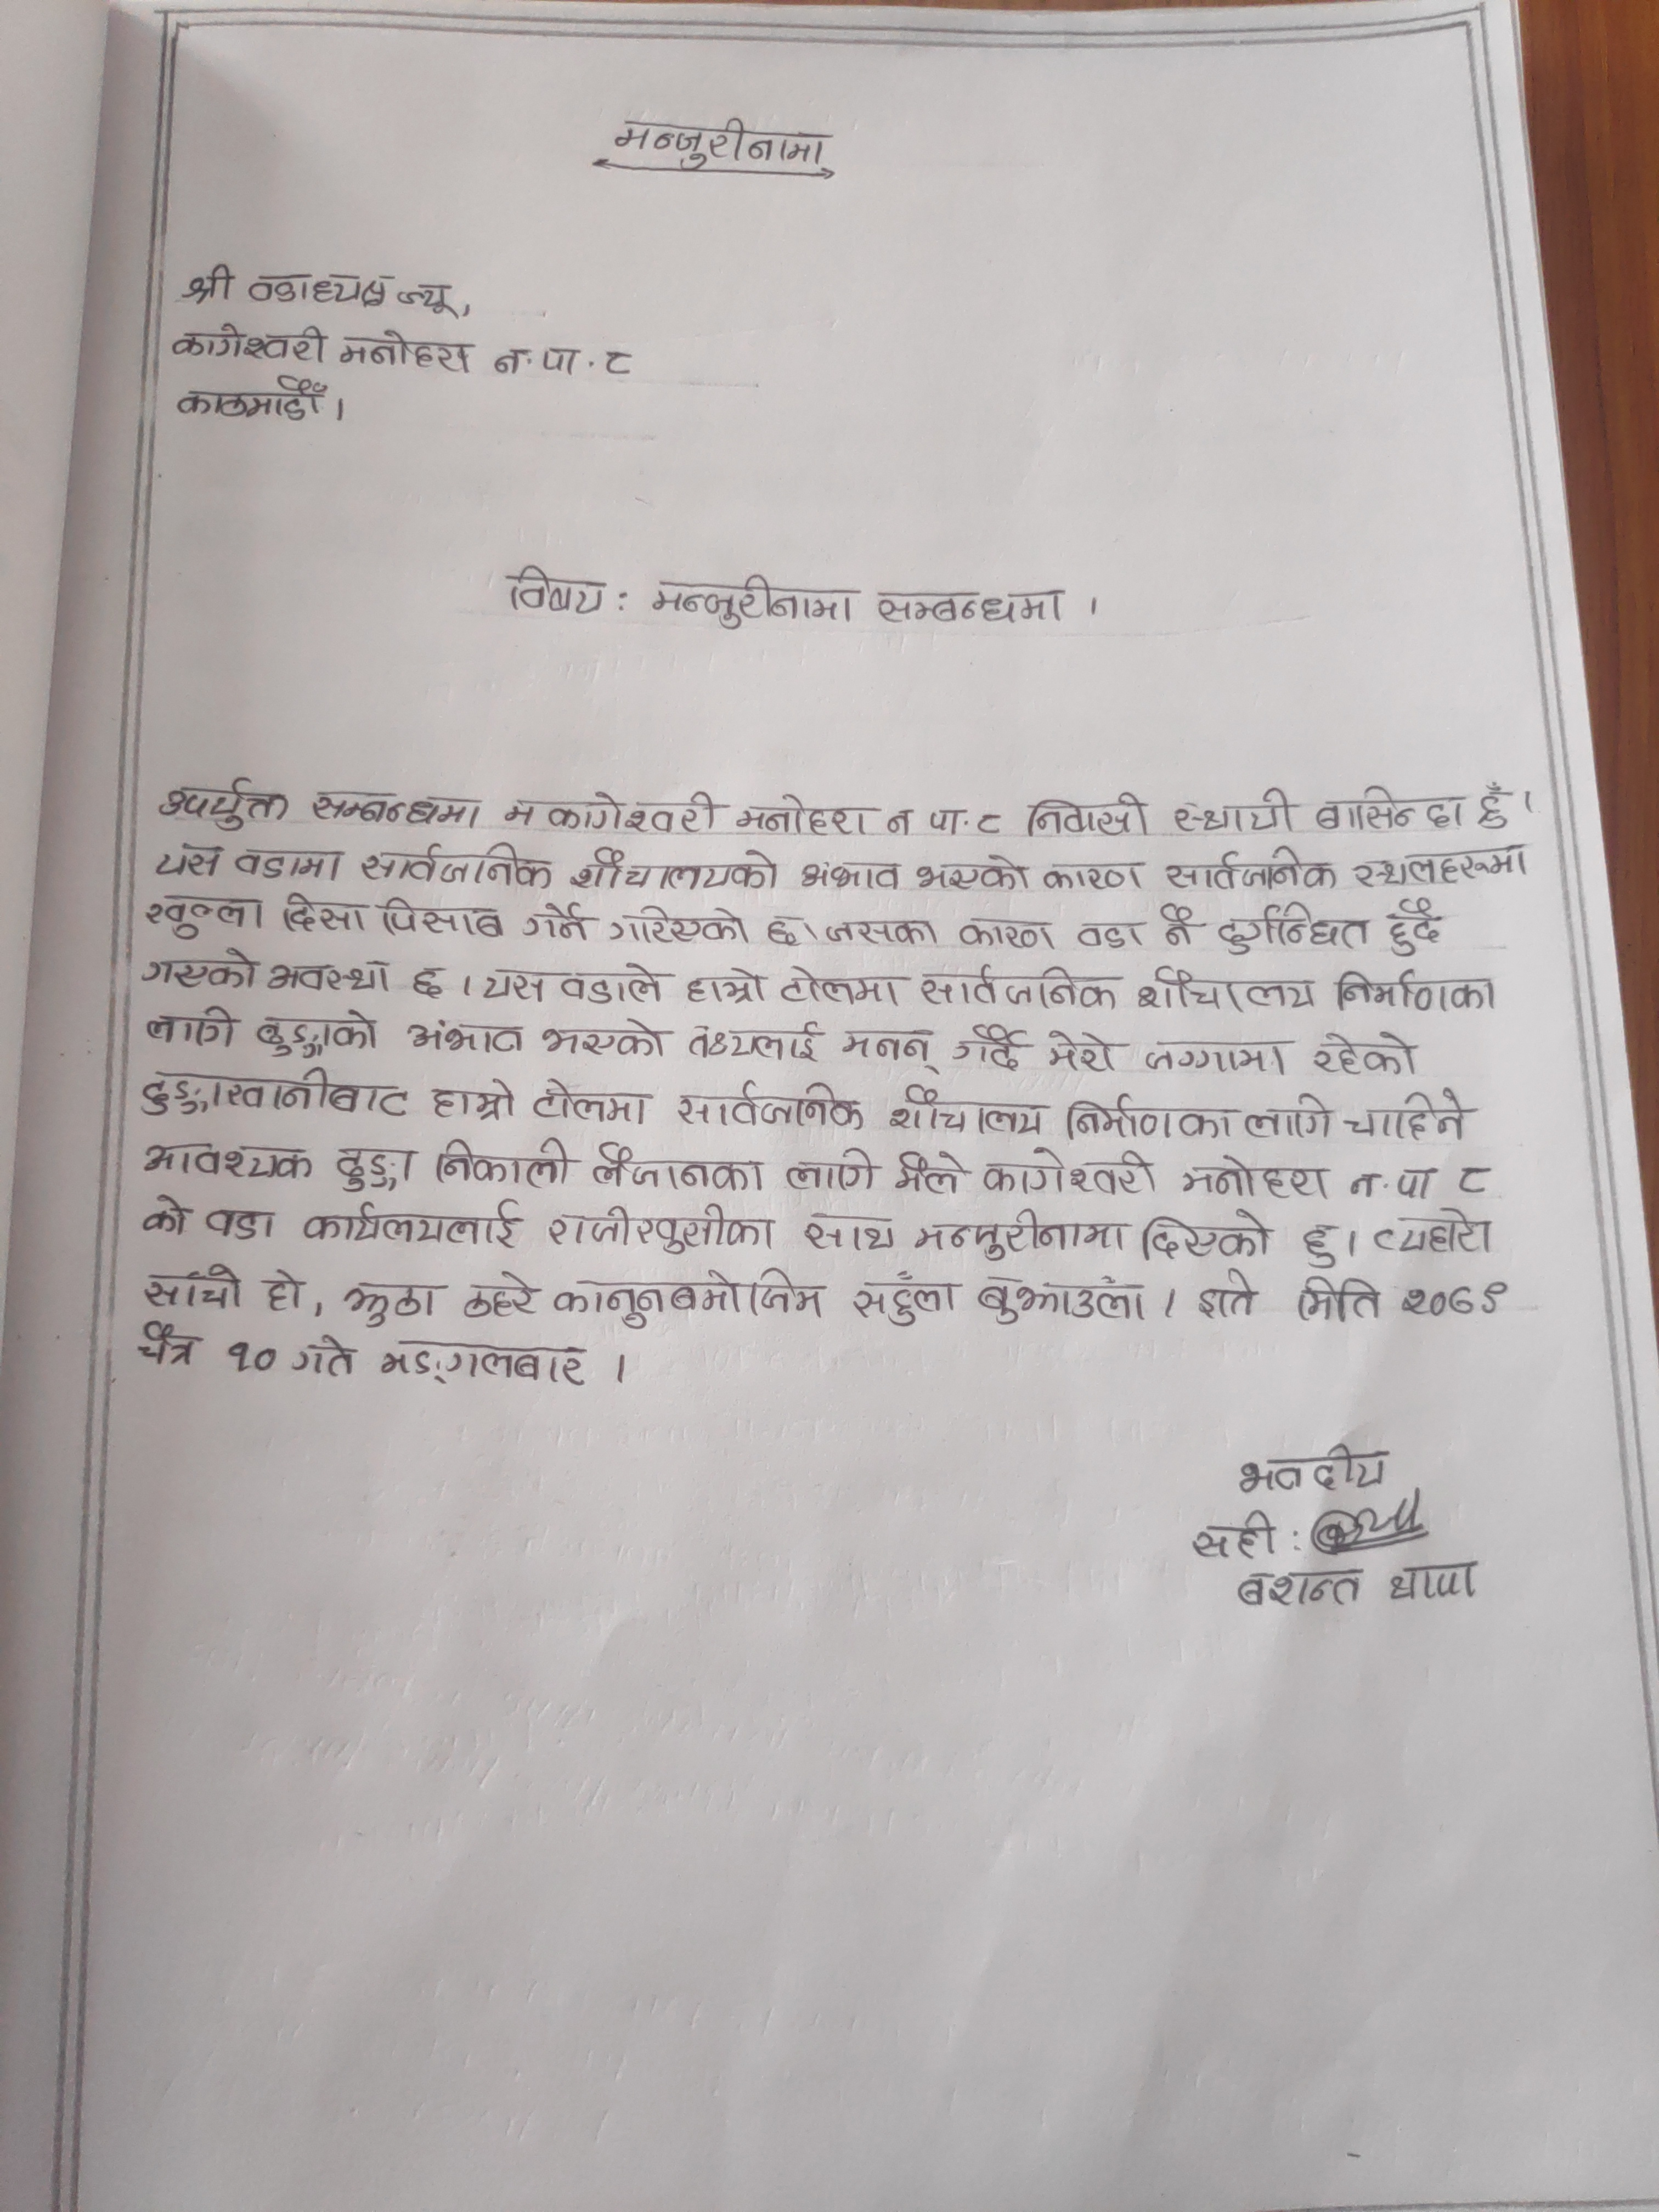text: (138, 1064, 418, 1123), (552, 1271, 828, 1324), (910, 1202, 1131, 1264), (608, 111, 828, 172), (652, 571, 863, 631), (542, 1205, 779, 1258), (509, 786, 718, 840), (300, 1198, 523, 1249), (671, 1076, 864, 1134), (380, 1341, 598, 1392), (361, 840, 558, 894), (915, 963, 1122, 1010), (1211, 900, 1375, 960), (1234, 1440, 1401, 1496), (568, 850, 779, 894), (974, 1273, 1147, 1325), (587, 1144, 765, 1195), (1065, 1092, 1241, 1143), (979, 1150, 1155, 1200), (875, 585, 1066, 631), (1352, 841, 1530, 890), (141, 1137, 319, 1186), (884, 1089, 1047, 1141), (1326, 968, 1499, 1017), (1127, 970, 1316, 1014), (307, 789, 483, 834), (1159, 848, 1338, 892), (430, 1137, 579, 1190), (171, 320, 331, 368), (155, 777, 295, 831), (1178, 1155, 1326, 1205), (1138, 1209, 1276, 1263), (1314, 786, 1467, 833), (174, 376, 329, 421), (1344, 1089, 1469, 1144), (376, 892, 509, 944), (774, 963, 904, 1014), (1140, 1035, 1291, 1078), (1373, 1204, 1493, 1258), (338, 331, 474, 378), (530, 1080, 655, 1130), (605, 907, 755, 949), (735, 796, 873, 841), (1234, 1566, 1364, 1613), (504, 563, 606, 622), (1175, 787, 1304, 834), (143, 892, 267, 941), (850, 1273, 962, 1327), (687, 1019, 824, 1062), (261, 1008, 383, 1057), (1023, 794, 1154, 840), (404, 1012, 528, 1059), (538, 1017, 666, 1062), (242, 272, 392, 310), (138, 1264, 244, 1318), (136, 948, 261, 993), (490, 341, 638, 380), (261, 958, 390, 1000), (331, 1136, 416, 1198), (1382, 1562, 1492, 1611), (1394, 1275, 1511, 1320), (141, 1003, 244, 1054), (915, 852, 1033, 895), (342, 1278, 443, 1329), (1307, 1033, 1422, 1076), (838, 1026, 945, 1073), (796, 1209, 897, 1258), (1188, 1512, 1286, 1562), (782, 1144, 877, 1195), (1291, 1273, 1382, 1325), (1241, 1090, 1337, 1139), (558, 961, 660, 1007), (458, 1271, 542, 1325), (235, 846, 345, 887), (129, 1318, 213, 1369), (277, 890, 369, 935), (427, 1080, 523, 1123), (889, 1144, 965, 1198), (1040, 1029, 1122, 1078), (821, 916, 941, 949), (1344, 1158, 1431, 1204), (1380, 897, 1443, 960), (1194, 1266, 1263, 1322), (683, 965, 765, 1010), (951, 1026, 1025, 1076), (519, 899, 598, 946), (802, 859, 904, 892), (291, 1332, 361, 1381), (1039, 862, 1145, 894), (204, 1205, 284, 1245), (951, 920, 1060, 949), (477, 963, 547, 1008), (218, 1341, 288, 1386), (392, 275, 460, 320), (153, 838, 227, 880), (885, 806, 965, 840), (1300, 1216, 1345, 1273), (181, 261, 235, 308), (1072, 920, 1147, 953), (261, 1268, 310, 1318), (141, 1191, 190, 1238), (1476, 779, 1514, 833), (1157, 900, 1195, 951), (408, 963, 453, 1001), (1452, 1165, 1499, 1198), (763, 913, 805, 946), (974, 810, 1007, 841)
